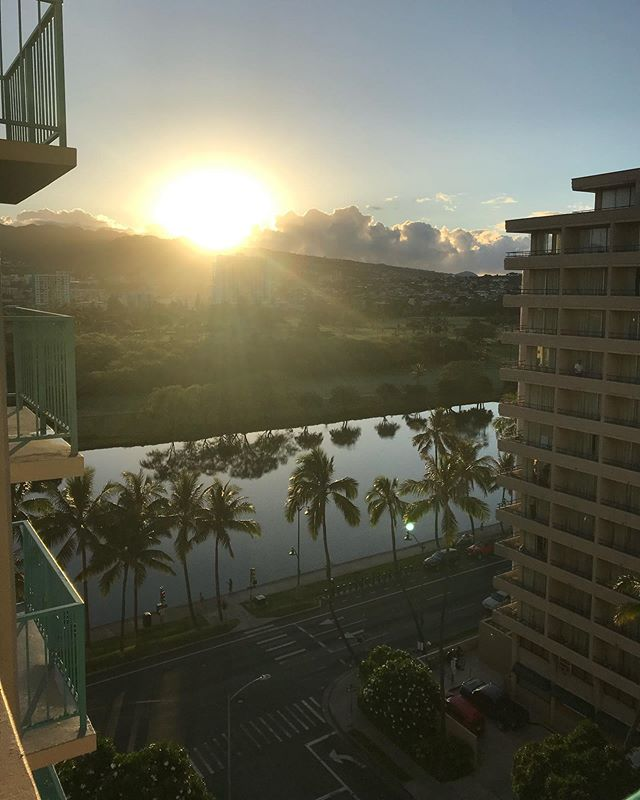building: (484, 164, 640, 730)
crosswalk: (186, 687, 343, 775)
mountain: (1, 196, 484, 381)
sky: (78, 1, 617, 210)
street: (110, 564, 494, 800)
sun: (173, 163, 272, 272)
tree: (159, 472, 252, 633), (87, 482, 165, 647), (283, 448, 358, 581), (421, 428, 491, 568), (513, 726, 640, 800), (365, 466, 409, 576)
